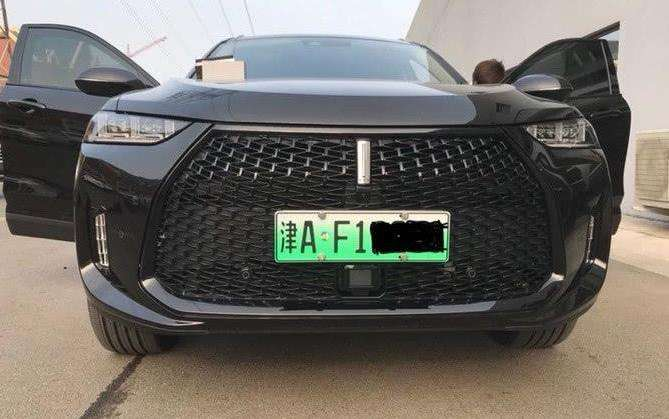plate: (264, 198, 461, 273)
